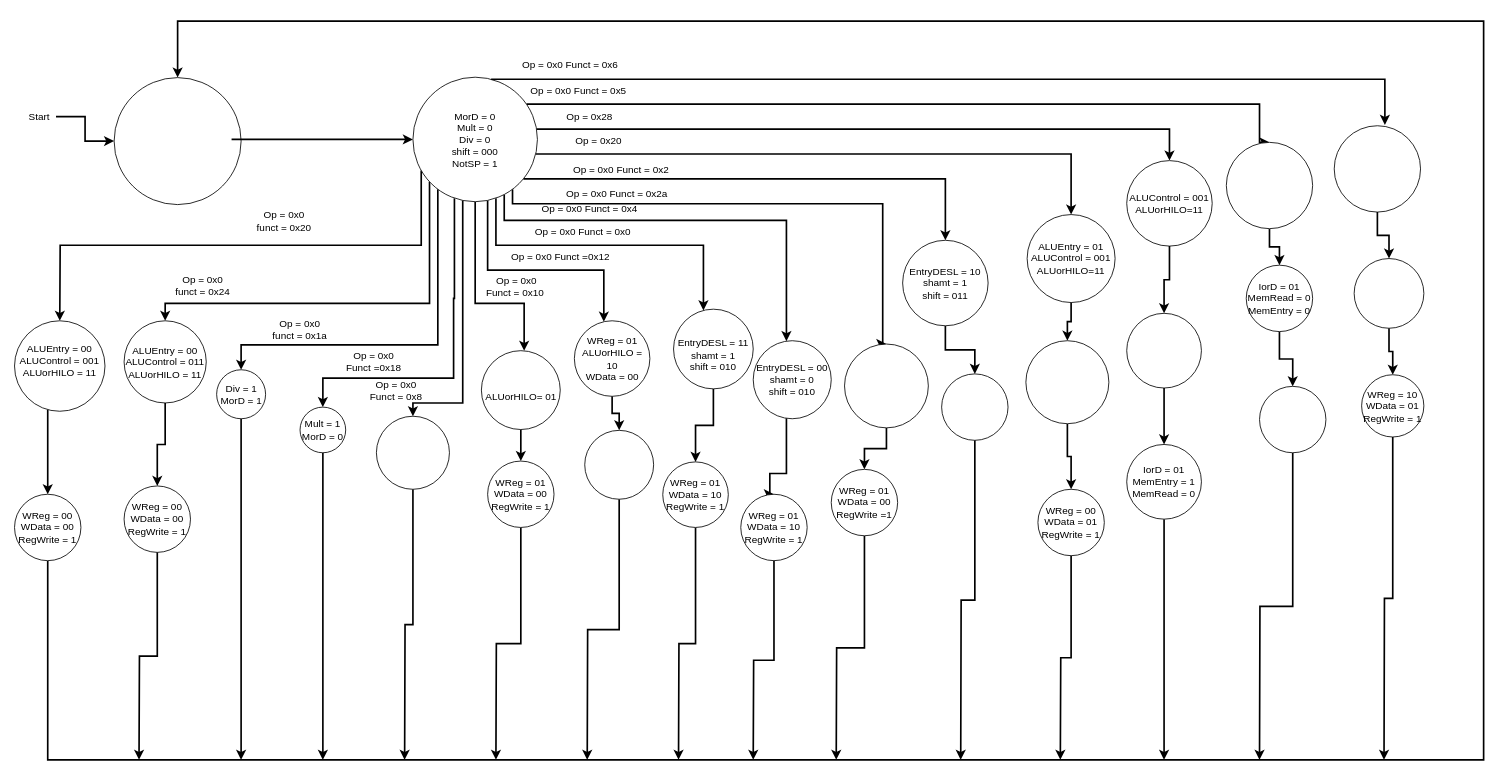
The diagram is 1506 pixels wide and 781 high, and some of its shapes have lost their labels. Here are the shapes that lost their labels. From the top down, the box of each, then its label:
(113, 77, 241, 205): IorD = 00 MemRead =1 IRWrite = 1 RegWrite = 0 PCSource = 000 Branch = 0
(1225, 142, 1313, 229): NotSP = 0 ALUEntry = 10 ALUControl = 010
(1333, 125, 1421, 212): NotSP = 0 ALUEntry = 10 ALUControl = 001
(1353, 258, 1424, 328): IorD = 10 MemRead=1 MemShift = 00
(1126, 312, 1201, 388): IorD = 01 MemShift = 00 MemRead = 1
(844, 343, 928, 428): ALUEntry = 0 ALUControl= 010 ALUorHILO = 11
(1025, 340, 1109, 424): IorD = 01 MemShift=10 MemEntry = 1 MemRead = 1
(941, 373, 1008, 440): WReg = 01 WData = 10
(1259, 386, 1326, 453): WReg = 10 RegWrite = 1 WData = 00
(376, 415, 449, 489): NotSP = 1 RegWrite = 0 PCSource = 11
(584, 430, 654, 499): WReg = 01 WData =00 RegWrite = 1
